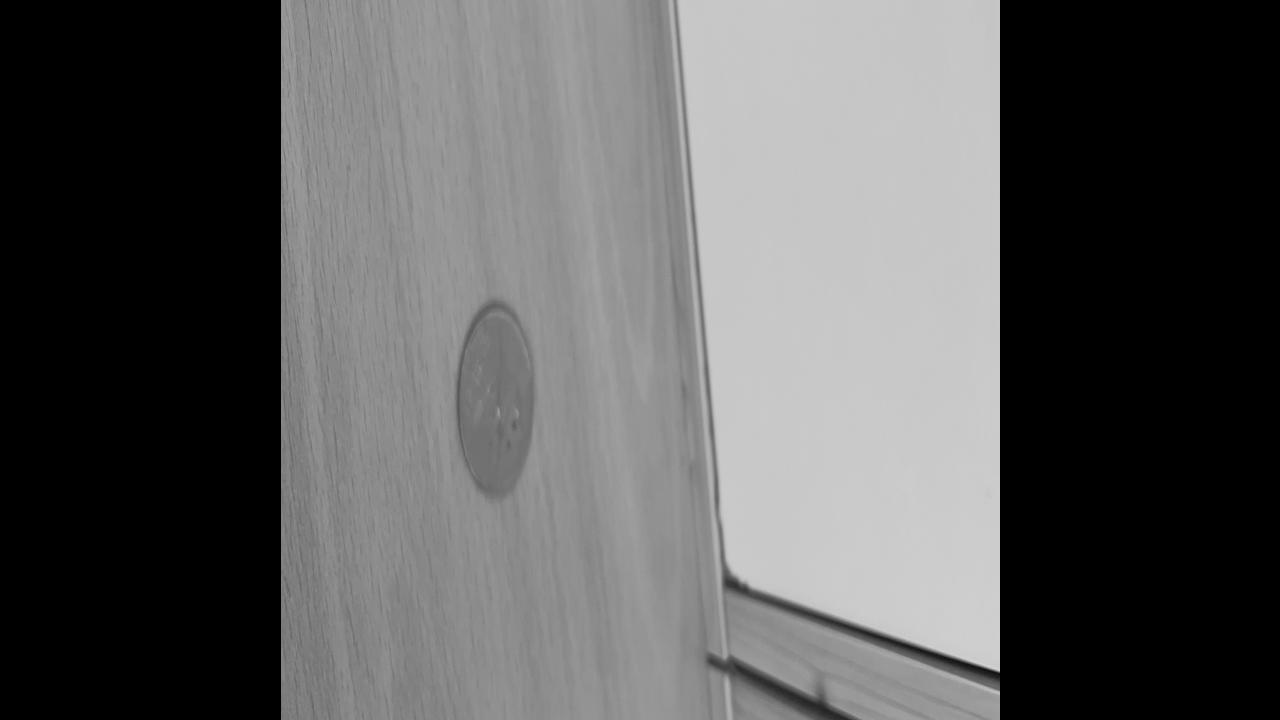coin: (456, 295, 534, 502)
